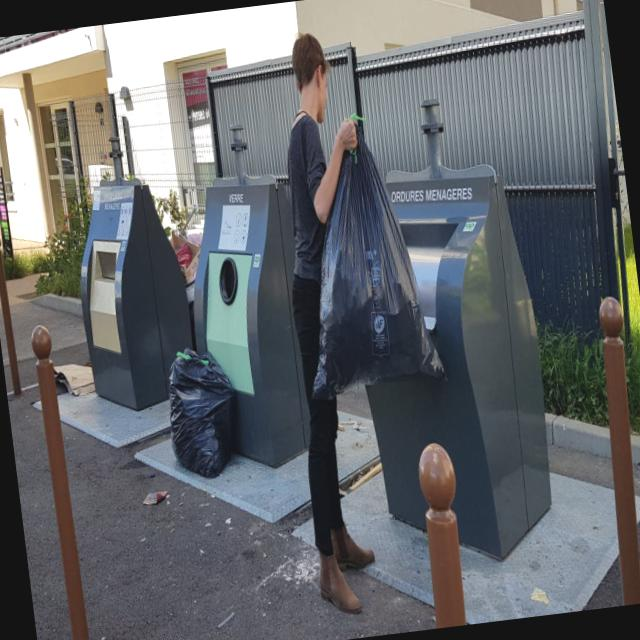garbage: (297, 112, 443, 394), (142, 324, 244, 486)
